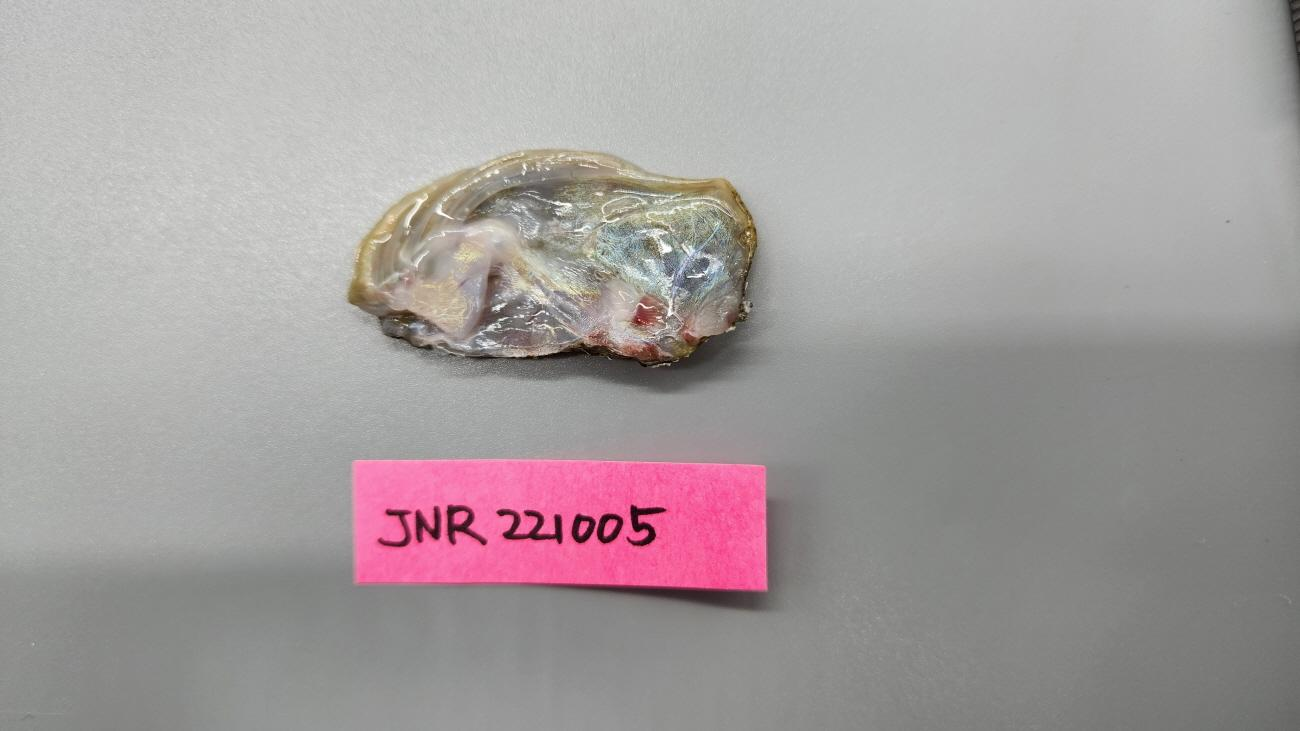POGCN: (347, 148, 758, 368)
